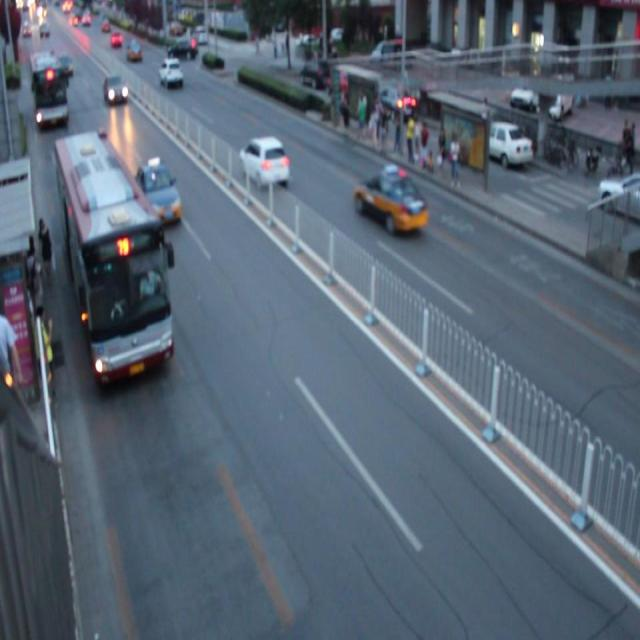car: (353, 168, 427, 235), (133, 160, 182, 226), (239, 136, 289, 193), (104, 74, 130, 109), (159, 58, 184, 90)
van: (54, 137, 174, 381), (26, 47, 69, 128)
